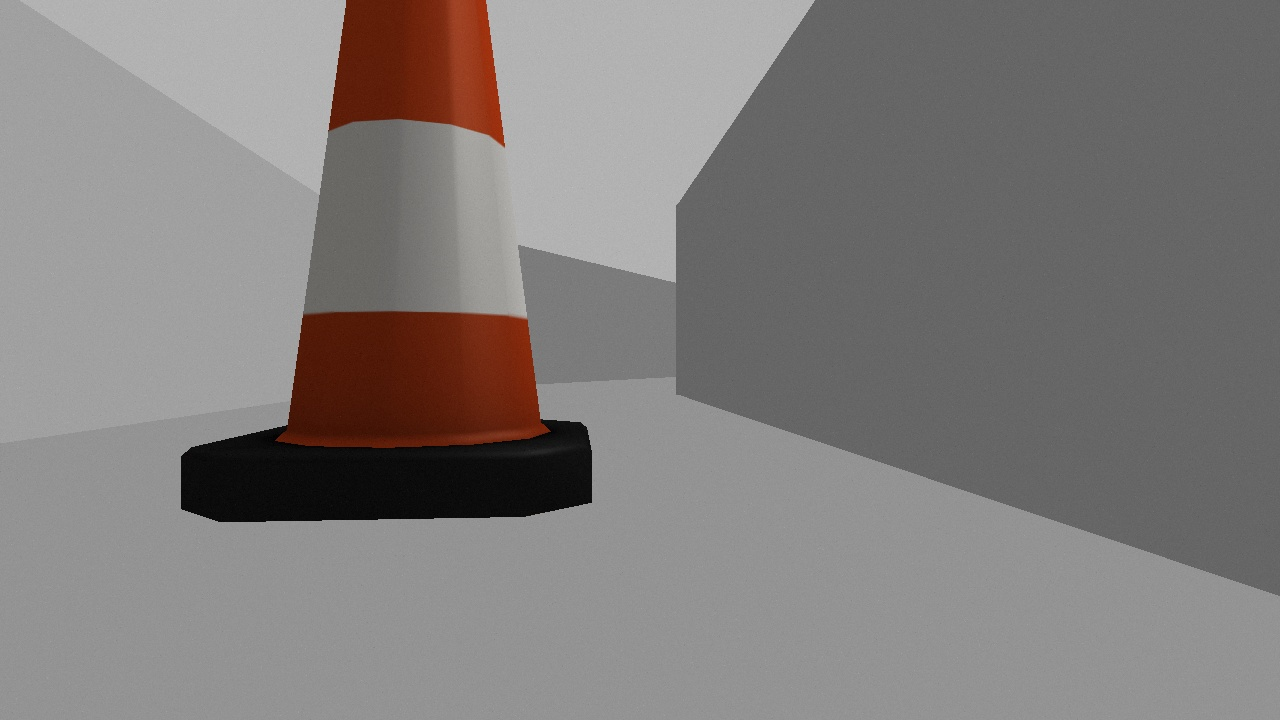barricade: (180, 1, 592, 521)
